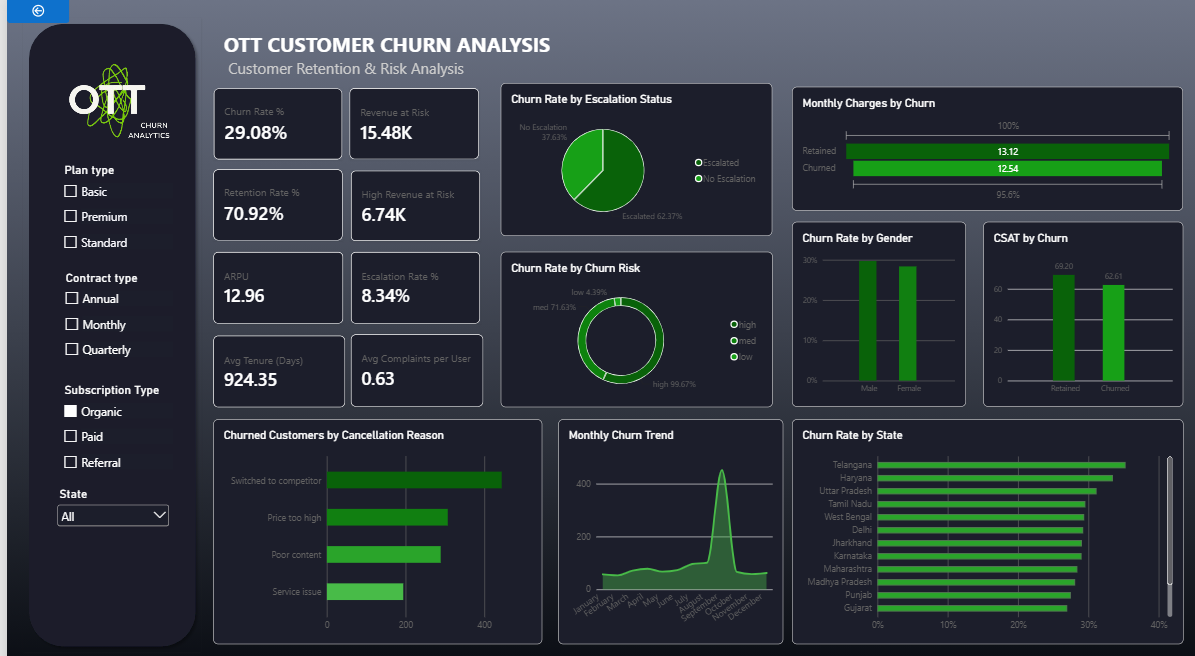

What the dashboard file says about the page in this screenshot:
{"tool":"powerbi","page":{"name":"Page 1","canvas":[1920,1080],"ordinal":0},"visuals":[{"type":"shape","box":[26.7,31.7,285,1015],"z":0},{"type":"cardVisual","fields":{"Data":["db_customer.Churn Rate %"]},"box":[330,144,207.5,115],"z":2000},{"type":"cardVisual","fields":{"Data":["db_customer.Avg Tenure (Days)"]},"box":[330,540,211.4,115.7],"z":3000},{"type":"cardVisual","fields":{"Data":["db_customer.ARPU"]},"box":[330,406,208.6,115.7],"z":4000},{"type":"cardVisual","fields":{"Data":["db_customer.Escalation Rate %"]},"box":[550,405.6,207.8,115.6],"z":5000},{"type":"cardVisual","fields":{"Data":["db_customer.Revenue at Risk"]},"box":[548.9,144.4,207.8,114.4],"z":6000},{"type":"cardVisual","title":"High Risk Revenue","fields":{"Data":["db_customer.High Risk Revenue at Risk"]},"box":[550,275.6,207.8,113.3],"z":7000},{"type":"cardVisual","fields":{"Data":["db_customer.Retention Rate %"]},"box":[330,274,207.8,114.4],"z":8000},{"type":"cardVisual","fields":{"Data":["db_customer.Avg Complaints per User"]},"box":[550,538.9,212.2,116.7],"z":9000},{"type":"clusteredBarChart","title":"Churn Rate by State","fields":{"Category":["db_customer.state"],"Y":["db_customer.Churn Rate %"]},"box":[1256,674,626,360],"z":12000},{"type":"clusteredBarChart","title":"Churned Customers by Cancellation Reason","fields":{"Category":["db_subscription.cancellation_reason"],"Y":["Sum(db_subscription.Churn Flag)"]},"box":[330,674,526,360],"z":13000},{"type":"clusteredColumnChart","title":"Churn Rate by Gender","fields":{"Category":["db_customer.gender"],"Y":["db_customer.Churn Rate %"]},"box":[1256,358,278,296],"z":14000},{"type":"funnel","title":"Monthly Charges by Churn","fields":{"Category":["db_subscription.Churn Status"],"Y":["Avg(db_subscription.monthly_charges)"]},"box":[1256.5,142.2,625.5,198.8],"z":15000},{"type":"clusteredColumnChart","title":"CSAT by Churn","fields":{"Category":["db_subscription.Churn Status"],"Y":["Avg(db_support.csat_score)"]},"box":[1562,358,320,296],"z":16000},{"type":"pieChart","title":"Churn Rate by Escalation Status","fields":{"Category":["db_support.Escalation Status"],"Y":["Avg(db_support.Customer Churn Flag)"]},"box":[790,136.7,434.4,244.4],"z":17000},{"type":"actionButton","box":[0,0,100,40],"z":18000},{"type":"donutChart","title":"Churn Rate by Churn Risk","fields":{"Category":["db_subscription.Churn Risk"],"Y":["db_customer.Churn Rate %"]},"box":[790,405.6,435.6,248.9],"z":19000},{"type":"areaChart","title":"Monthly Churn Trend","fields":{"Category":["db_subscription.cancellation_date.Variation.Date Hierarchy.Month"],"Y":["Sum(db_subscription.Churn Flag)"]},"box":[882,674,360,360],"z":20000},{"type":"textbox","box":[346,52,524,80],"z":21000},{"type":"textbox","box":[353.3,95,436.7,93.3],"z":22000},{"type":"slicer","fields":{"Values":["db_subscription.plan_type"]},"box":[83.3,263.3,181.7,148.3],"z":23000},{"type":"slicer","fields":{"Values":["db_subscription.contract_type"]},"box":[85,436.7,180,150],"z":24000},{"type":"slicer","fields":{"Values":["db_customer.state"]},"box":[76.7,781.7,188.3,150],"z":25000},{"type":"slicer","fields":{"Values":["db_subscription.Subscription Type Clean"]},"box":[83.3,615,181.7,150],"z":26000},{"type":"image","box":[16.7,20,295,288.3],"z":27000}]}

Visuals, with their boxes on the page's 1920x1080 design canvas (x1, y1, x2, y2). These are canvas units, not pixel positions in the 1195x656 screenshot, which may show the page scaled, cropped or inside an application window:
shape: [x1=27, y1=32, x2=312, y2=1047]
cardVisual - db_customer.Churn Rate %: [x1=330, y1=144, x2=538, y2=259]
cardVisual - db_customer.Avg Tenure (Days): [x1=330, y1=540, x2=541, y2=656]
cardVisual - db_customer.ARPU: [x1=330, y1=406, x2=539, y2=522]
cardVisual - db_customer.Escalation Rate %: [x1=550, y1=406, x2=758, y2=521]
cardVisual - db_customer.Revenue at Risk: [x1=549, y1=144, x2=757, y2=259]
"High Risk Revenue" cardVisual: [x1=550, y1=276, x2=758, y2=389]
cardVisual - db_customer.Retention Rate %: [x1=330, y1=274, x2=538, y2=388]
cardVisual - db_customer.Avg Complaints per User: [x1=550, y1=539, x2=762, y2=656]
"Churn Rate by State" clusteredBarChart: [x1=1256, y1=674, x2=1882, y2=1034]
"Churned Customers by Cancellation Reason" clusteredBarChart: [x1=330, y1=674, x2=856, y2=1034]
"Churn Rate by Gender" clusteredColumnChart: [x1=1256, y1=358, x2=1534, y2=654]
"Monthly Charges by Churn" funnel: [x1=1256, y1=142, x2=1882, y2=341]
"CSAT by Churn" clusteredColumnChart: [x1=1562, y1=358, x2=1882, y2=654]
"Churn Rate by Escalation Status" pieChart: [x1=790, y1=137, x2=1224, y2=381]
actionButton: [x1=0, y1=0, x2=100, y2=40]
"Churn Rate by Churn Risk" donutChart: [x1=790, y1=406, x2=1226, y2=654]
"Monthly Churn Trend" areaChart: [x1=882, y1=674, x2=1242, y2=1034]
textbox: [x1=346, y1=52, x2=870, y2=132]
textbox: [x1=353, y1=95, x2=790, y2=188]
slicer - db_subscription.plan_type: [x1=83, y1=263, x2=265, y2=412]
slicer - db_subscription.contract_type: [x1=85, y1=437, x2=265, y2=587]
slicer - db_customer.state: [x1=77, y1=782, x2=265, y2=932]
slicer - db_subscription.Subscription Type Clean: [x1=83, y1=615, x2=265, y2=765]
image: [x1=17, y1=20, x2=312, y2=308]
